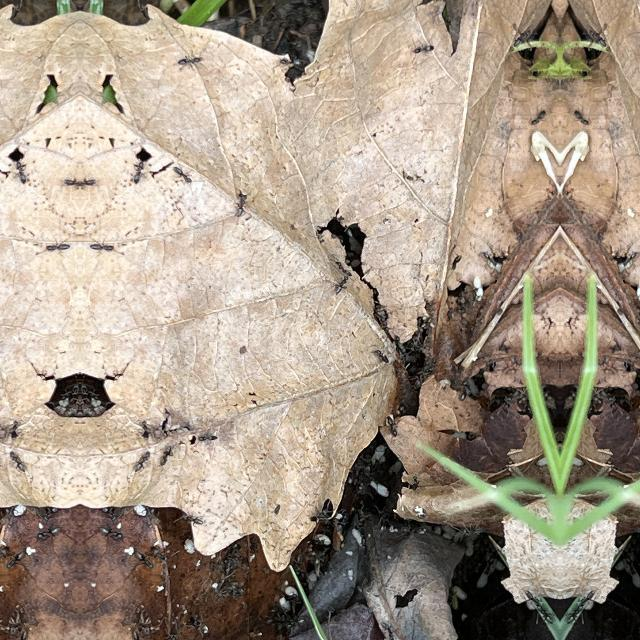Tapinoma: (174, 47, 206, 73), (308, 495, 334, 525), (232, 187, 252, 223), (408, 39, 436, 63), (188, 614, 212, 638), (88, 238, 116, 258), (44, 238, 72, 258), (173, 162, 194, 188), (130, 156, 146, 188), (14, 156, 30, 188), (618, 246, 640, 268), (100, 524, 124, 542), (384, 412, 400, 438), (36, 524, 59, 542), (480, 248, 500, 268), (197, 428, 219, 446), (183, 509, 204, 527), (529, 105, 547, 126), (573, 105, 591, 126), (334, 274, 351, 296), (136, 551, 154, 571), (6, 551, 24, 571), (134, 450, 150, 472), (10, 450, 26, 472), (456, 376, 469, 402), (372, 346, 390, 364), (151, 546, 169, 564), (80, 172, 96, 192), (64, 172, 80, 192), (159, 444, 173, 466), (159, 412, 171, 436), (138, 416, 150, 438), (10, 416, 22, 438), (497, 340, 511, 356), (609, 340, 623, 356), (451, 252, 462, 270), (102, 507, 118, 519), (42, 507, 58, 519), (0, 544, 8, 563)
